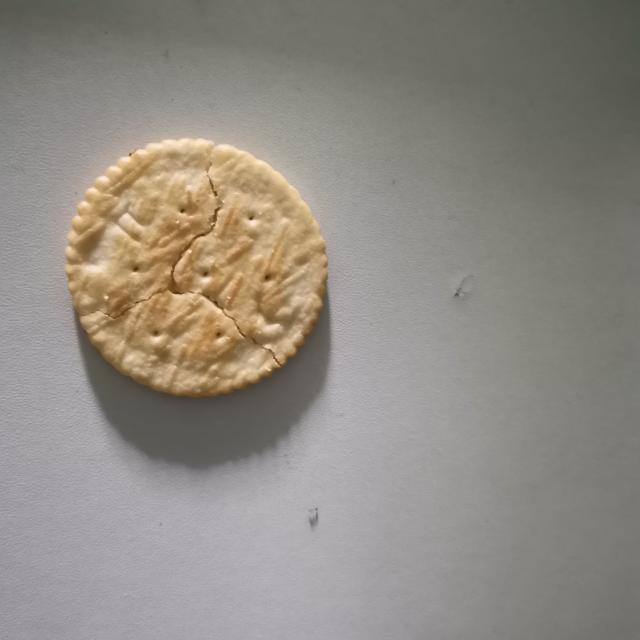Fracture: (73, 143, 301, 371)
